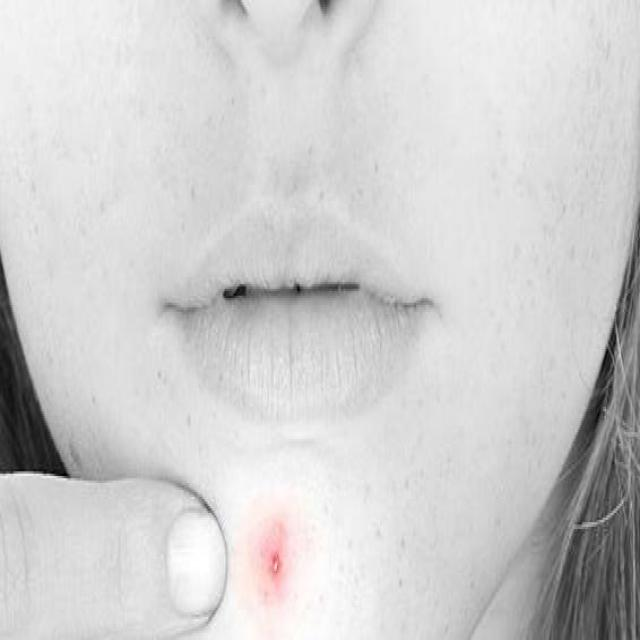blackheads: (259, 532, 285, 590)
